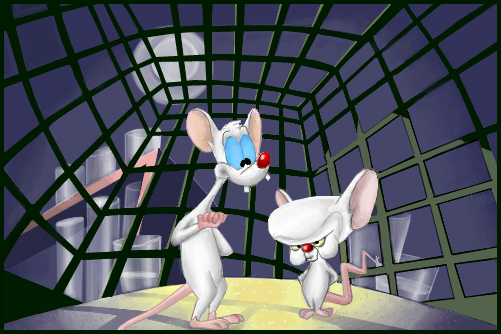cerebro: (262, 164, 386, 328)
pink: (141, 97, 271, 333)
